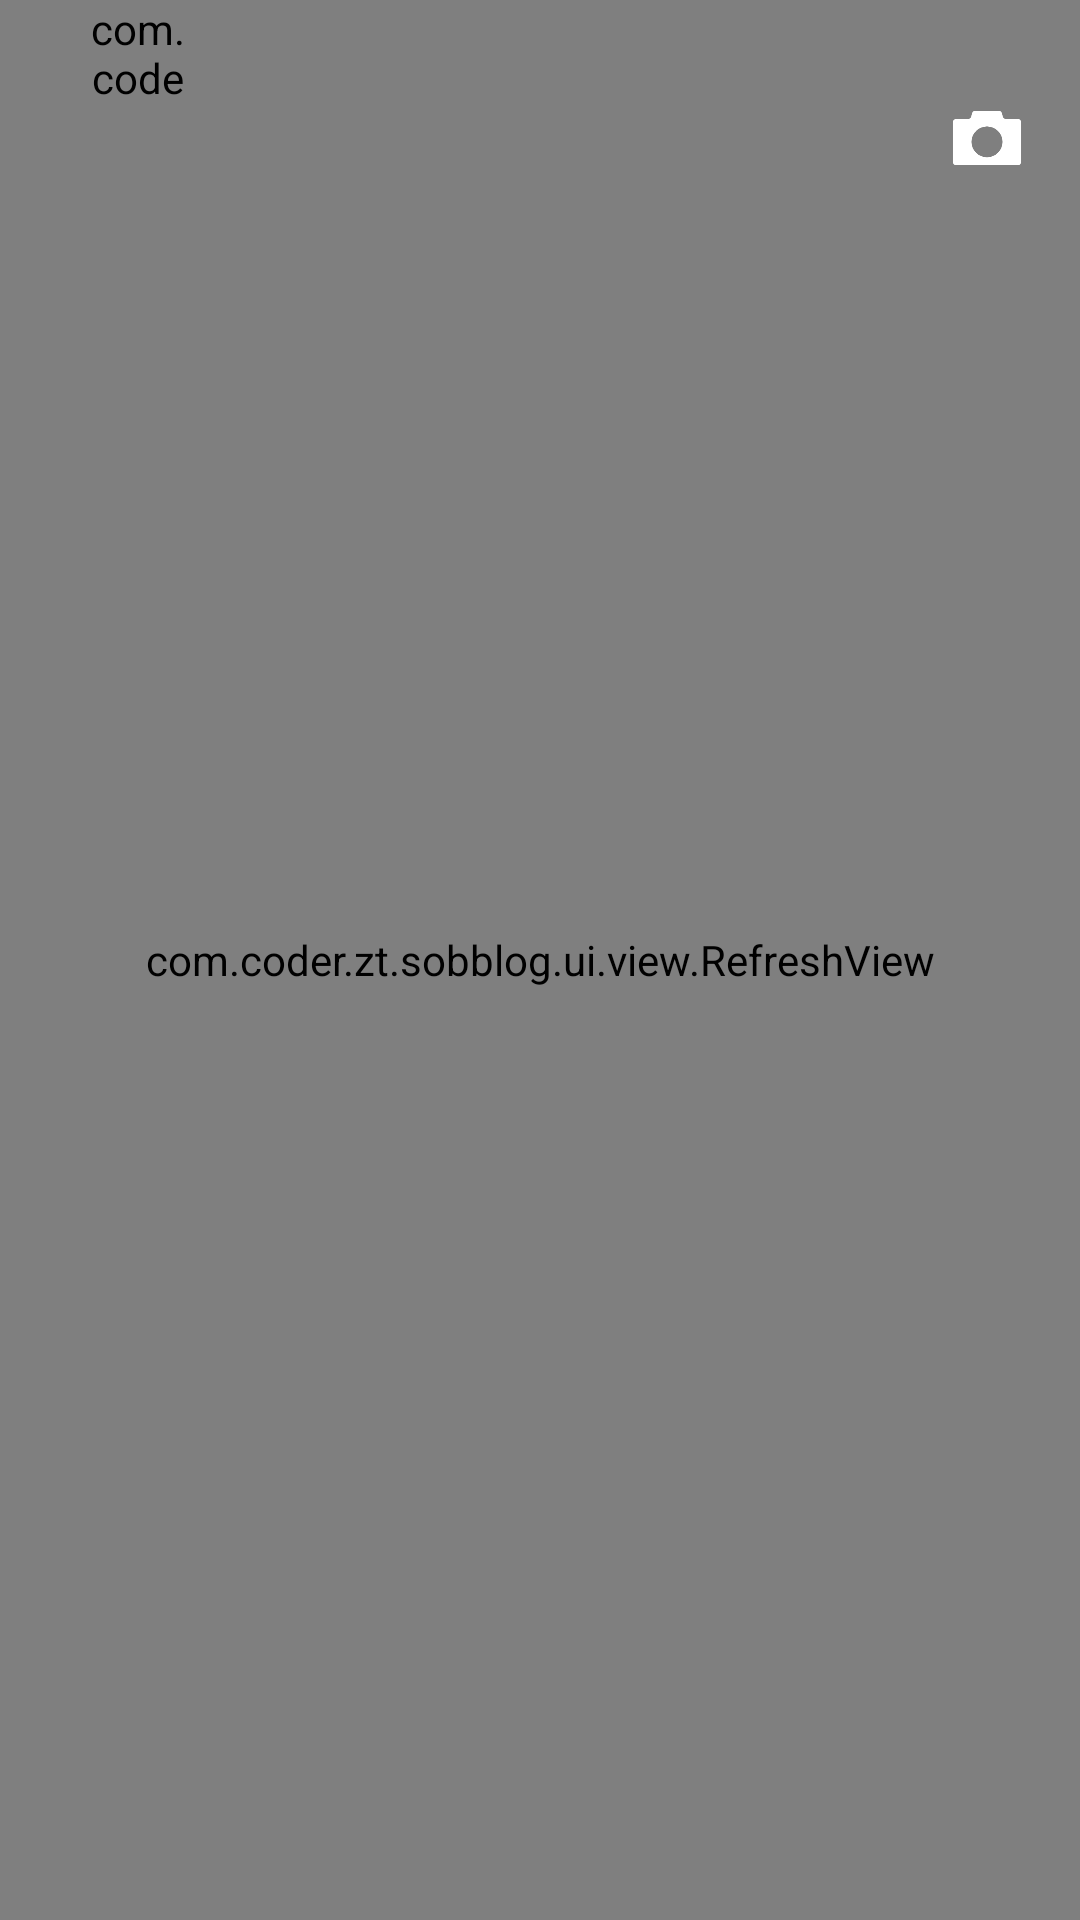

Icon click points for this 1080*1920 phone screenshot, format [x,y]:
camera: [987,138]
